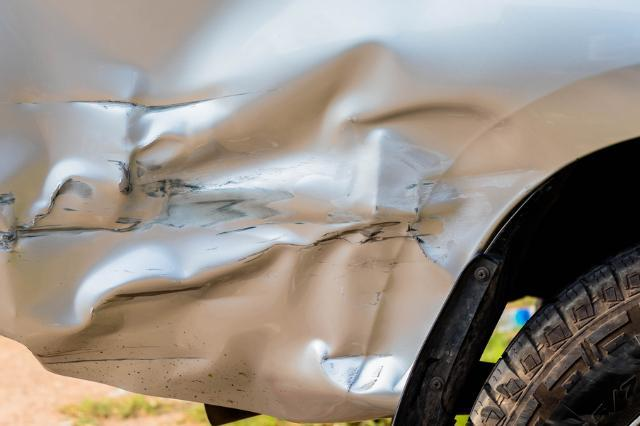Bumper: (0, 13, 555, 420)
